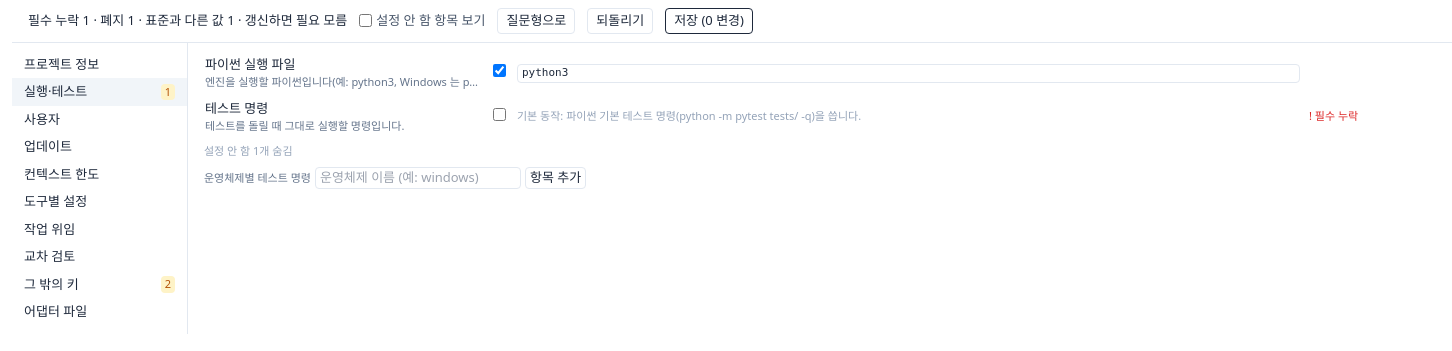
Test: 왼쪽 목록 › 첫 진입은 배지가 있는 첫 절이고, 고른 절의 행만 오른쪽에 있다
This screenshot has width=1452, height=351.
Expected: the element with test id "group-runtime" is shown, [204, 50, 1436, 188]
Expected: the row with test id "conf-test.cmd" is shown, [204, 94, 1436, 138]
Click the button with test id "nav-ctx": coordinates (100, 174) [12, 160, 187, 188]
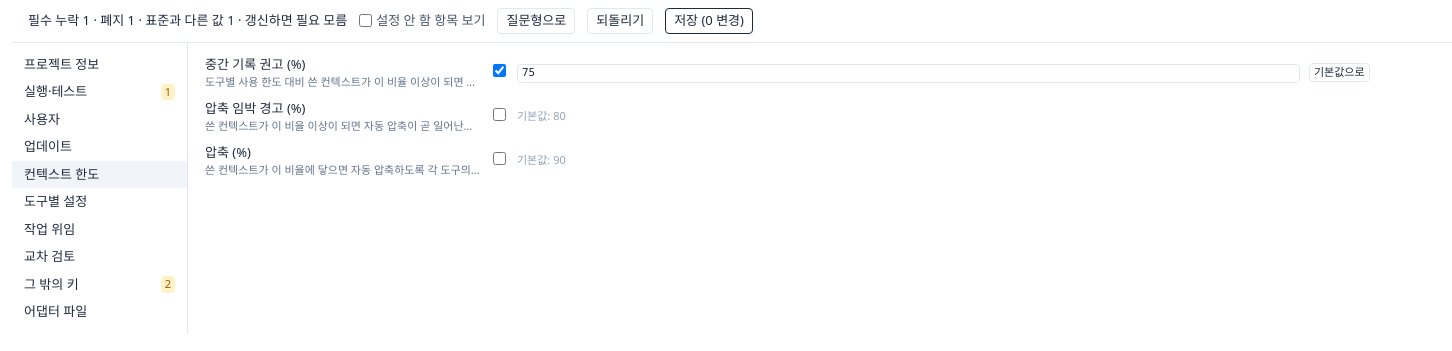
Result: the row with test id "conf-ctx.checkpoint_at_pct" is shown at [204, 50, 1436, 94]
